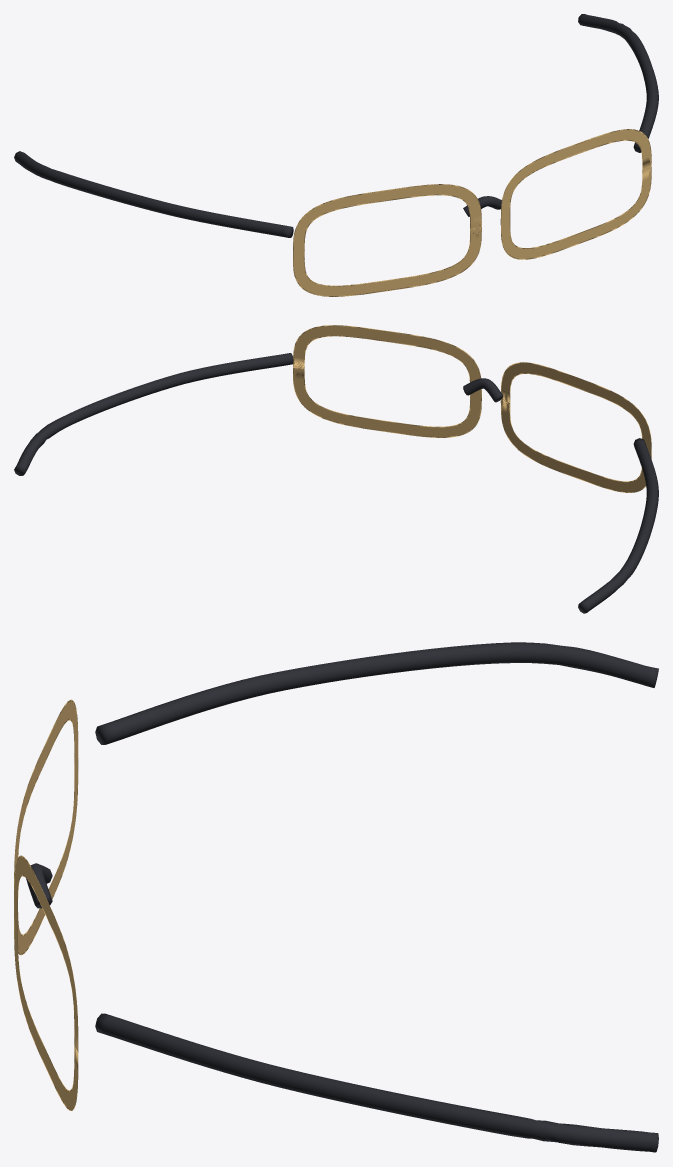
Rendered from Feminine-reading-glasses.glb.
3 renders of one model, top to bottom at view 1: azimuth 30°, elevation 25°; view 2: azimuth 150°, elevation 25°; view 3: azimuth 270°, elevation 25°, orthographic. The views are drawn at different scales.
Visible parts, largest first — view 1: 226 glasses / Accessory / warm metal226, 226 glasses / Glasses / frame226; view 2: 226 glasses / Accessory / warm metal226, 226 glasses / Glasses / frame226; view 3: 226 glasses / Glasses / frame226, 226 glasses / Accessory / warm metal226.
Boxes of the visible parts, <box> form: 226 glasses / Accessory / warm metal226: <box>293,129,651,296</box>; 226 glasses / Glasses / frame226: <box>14,14,658,237</box>; 226 glasses / Accessory / warm metal226: <box>293,325,651,492</box>; 226 glasses / Glasses / frame226: <box>14,353,658,613</box>; 226 glasses / Glasses / frame226: <box>26,642,658,1152</box>; 226 glasses / Accessory / warm metal226: <box>14,699,78,1110</box>.
Size of the model in its own units: 0.9995 by 0.164 by 0.56.
